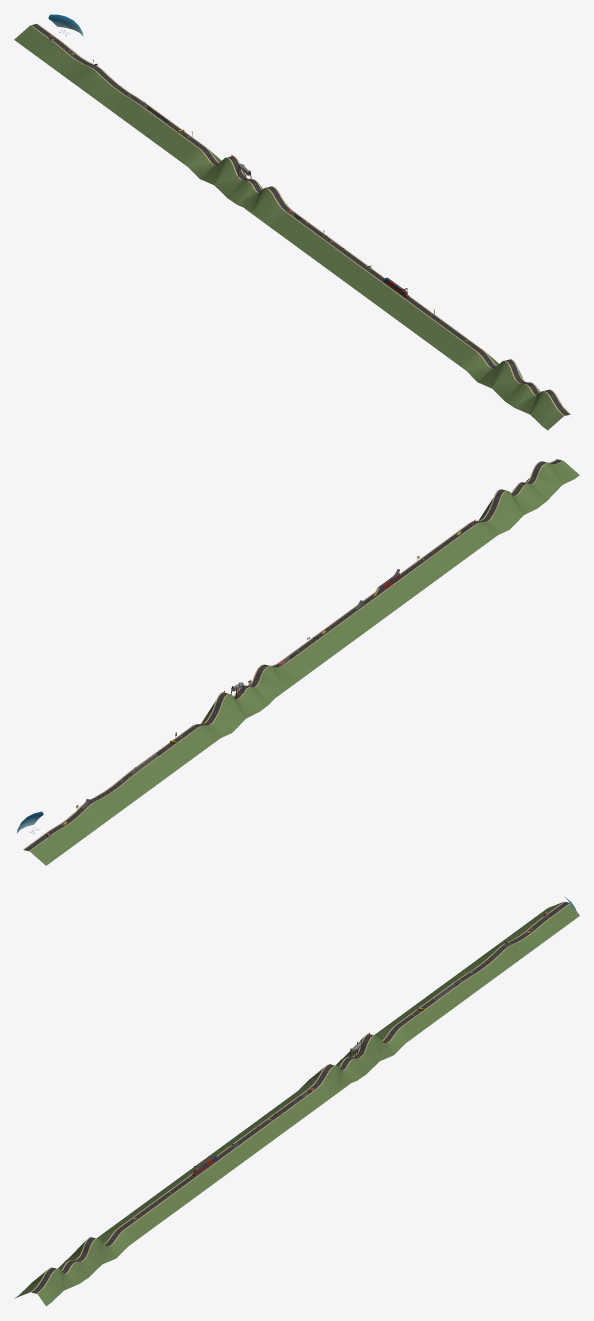
Rendered from level_event_3.glb.
The picture shows the model from 3 angles, top to bottom: view 1: azimuth 30°, elevation 25°; view 2: azimuth 150°, elevation 25°; view 3: azimuth 330°, elevation 25°; orthographic projection.
Parts seen in each view (by area): view 1: road_hard_03 (×2), road_easy_00, road_easy_06, road_easy_00 (3), road_easy_00_small_2, road_easy_00_small_1, road_razlom_middle; view 2: road_hard_03 (×2), road_easy_00, road_easy_06, road_easy_00 (3), road_easy_00_small_2, road_easy_00_small_1, road_razlom_middle; view 3: road_hard_03 (×2), road_easy_06, road_easy_00, road_easy_00 (3), road_easy_00_small_2, road_razlom_middle, road_easy_00_small_1.
Boxes of the visible parts, <box> form: road_hard_03 (×2): <box>181,146,572,430</box>; road_easy_00: <box>281,219,387,299</box>; road_easy_06: <box>34,38,145,119</box>; road_easy_00 (3): <box>370,285,481,364</box>; road_easy_00_small_2: <box>149,122,203,161</box>; road_easy_00_small_1: <box>14,23,56,53</box>; road_razlom_middle: <box>126,105,168,135</box>; road_hard_03 (×2): <box>190,459,579,743</box>; road_easy_00: <box>290,590,401,670</box>; road_easy_06: <box>43,770,154,850</box>; road_easy_00 (3): <box>383,524,490,604</box>; road_easy_00_small_2: <box>158,727,212,766</box>; road_easy_00_small_1: <box>23,835,65,865</box>; road_razlom_middle: <box>136,753,177,783</box>; road_hard_03 (×2): <box>14,1024,412,1306</box>; road_easy_06: <box>439,916,559,995</box>; road_easy_00: <box>192,1097,312,1175</box>; road_easy_00 (3): <box>103,1163,223,1240</box>; road_easy_00_small_2: <box>381,1000,444,1037</box>; road_razlom_middle: <box>417,983,467,1011</box>; road_easy_00_small_1: <box>528,901,579,929</box>.
Size of what is drawn, in the model's own units: 58.1 by 41.43 by 1170.
Materials: 7 (7 with a texture image).
